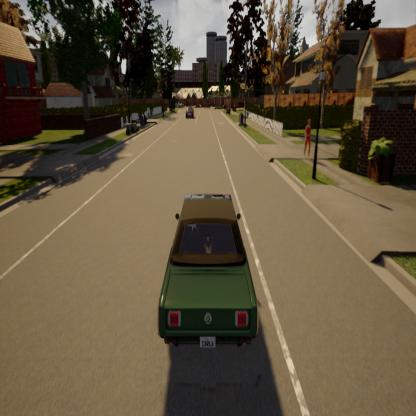Cars: (159, 196, 258, 348), (186, 103, 194, 120)
Pedestrian: (303, 115, 313, 161)
